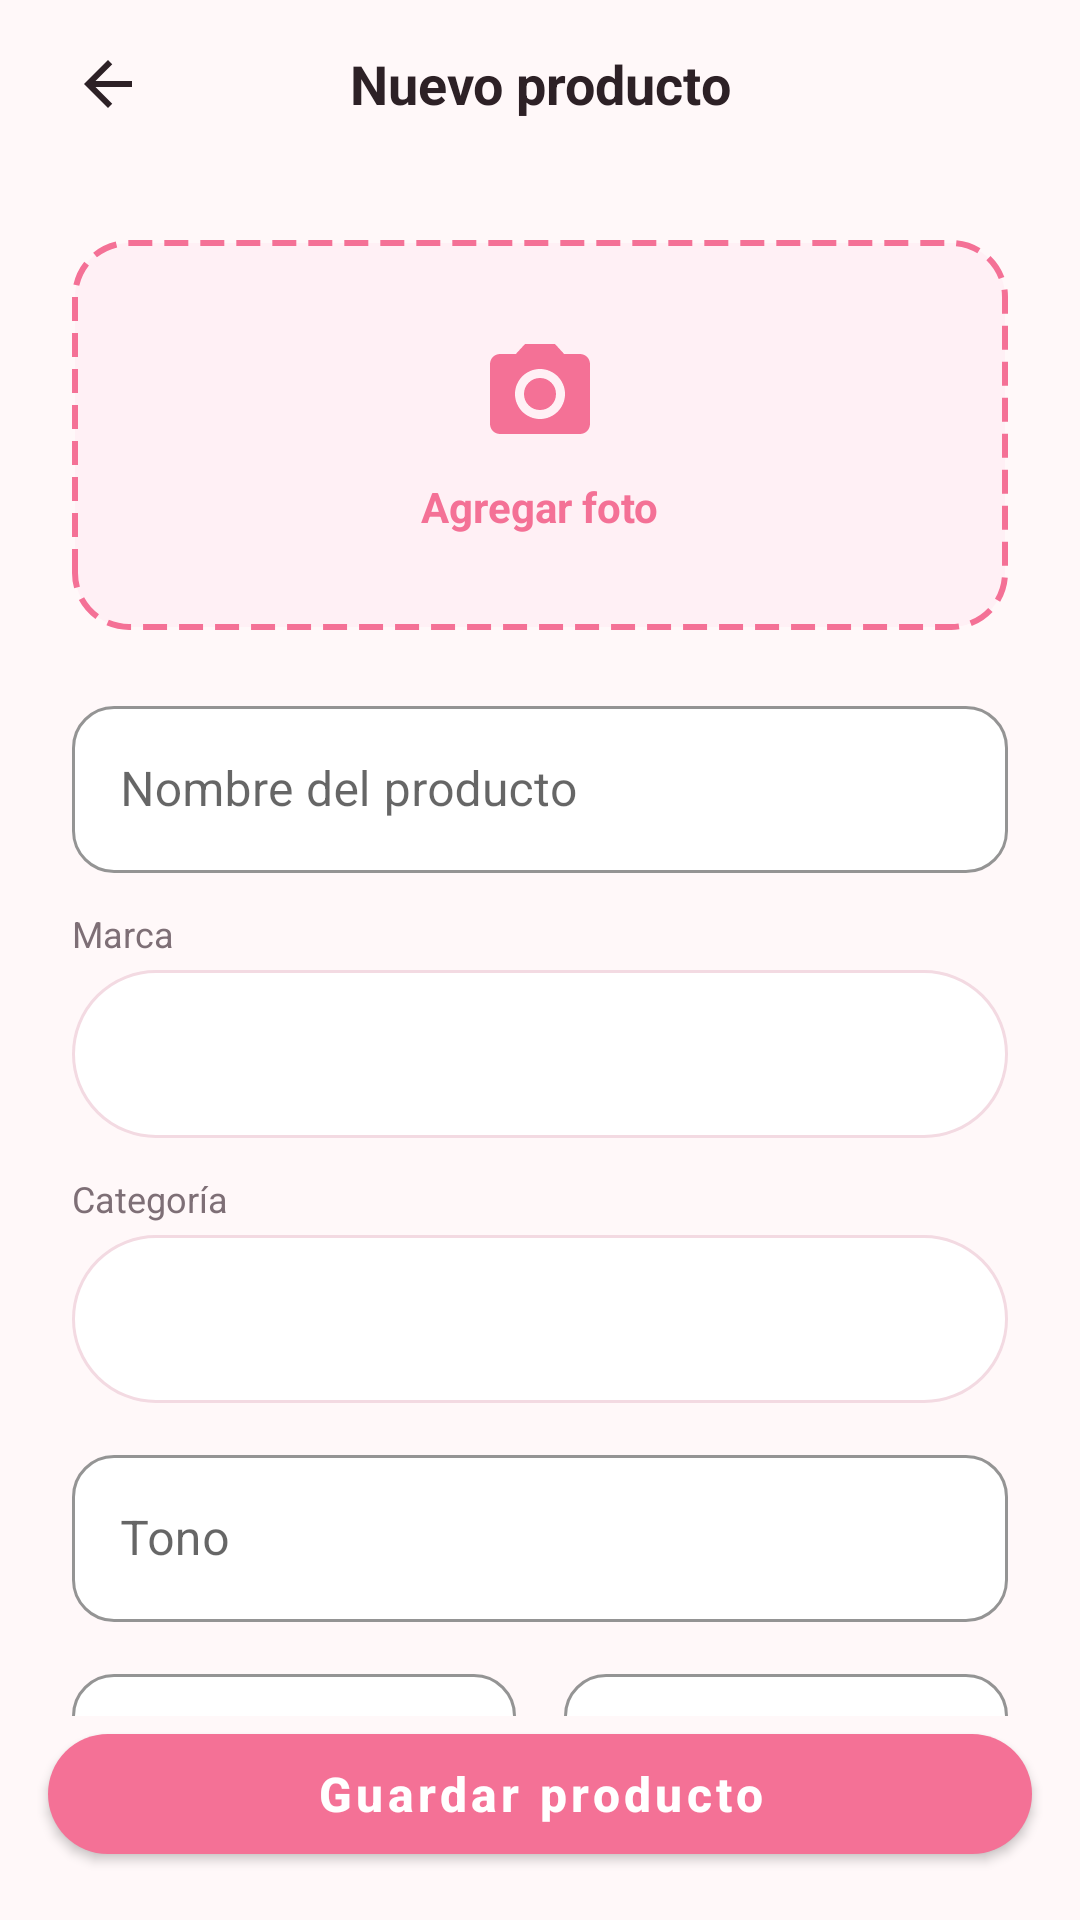

Named icons in this screenshot (1080x1920) and their centers, (x,y):
Volver: (108,84)
